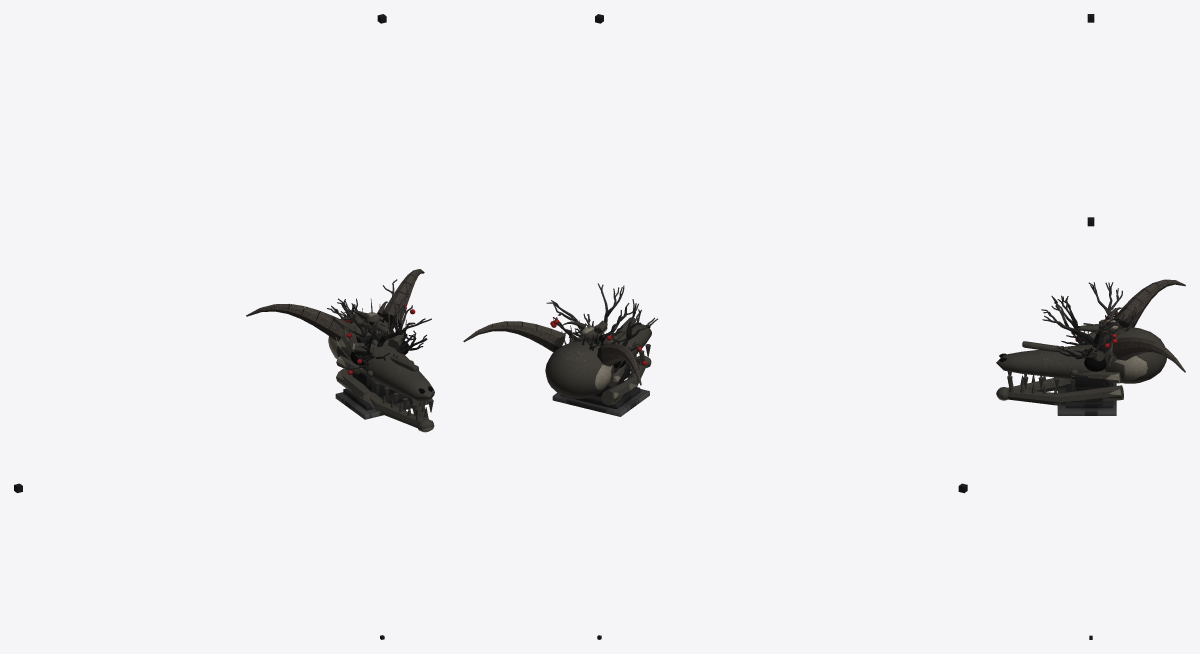
File: InkboundModels_Lobby.fbx
3 views of the same model, side by side, from view 1: azimuth 30°, elevation 25°; view 2: azimuth 150°, elevation 25°; view 3: azimuth 270°, elevation 25° (orthographic).
Visible parts, largest first — view 1: GiantSkull, BoneThrone, DeadTree, WitheredAppleTree; view 2: GiantSkull, BoneThrone, DeadTree; view 3: GiantSkull, BoneThrone, DeadTree, WitheredAppleTree.
Part boxes in pixels (x1,y1,x2,y2): GiantSkull: (246, 269, 434, 432); BoneThrone: (335, 298, 432, 419); DeadTree: (327, 279, 431, 357); WitheredAppleTree: (345, 302, 427, 374); GiantSkull: (463, 317, 651, 405); BoneThrone: (552, 315, 649, 416); DeadTree: (546, 283, 657, 350); GiantSkull: (996, 279, 1185, 405); BoneThrone: (1057, 307, 1123, 415); DeadTree: (1041, 282, 1140, 348); WitheredAppleTree: (1056, 308, 1120, 359).
Size of the model in its own units: 80.19 by 105 by 28.89.
22 materials, 15 textured.
